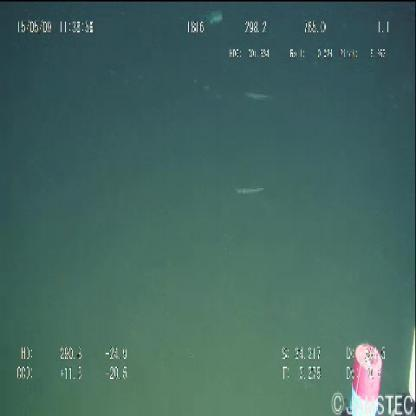Rác: (203, 8, 224, 28)
